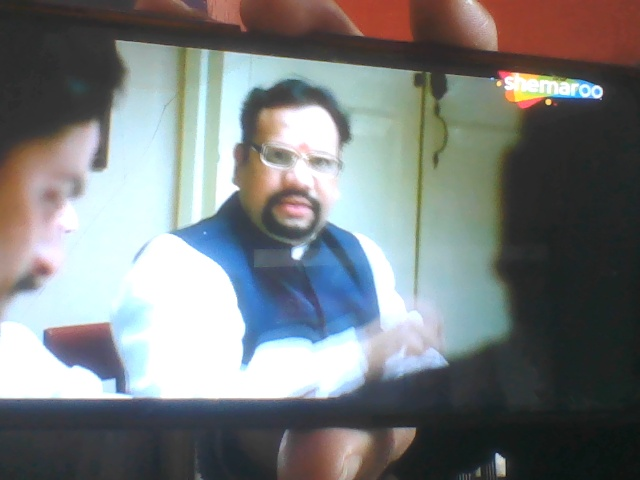fake: (235, 80, 355, 250)
